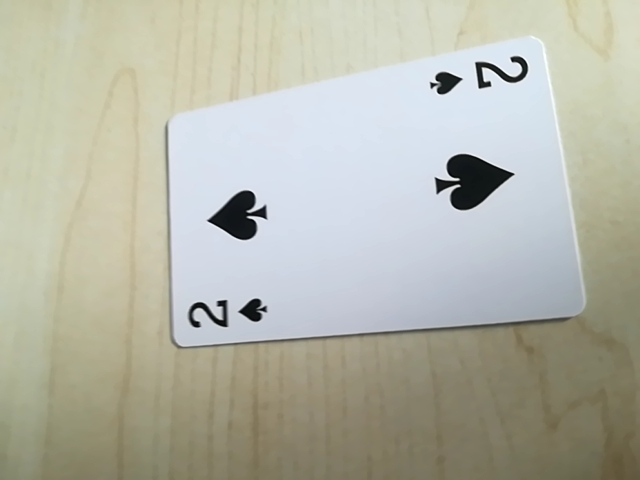ht 2: (422, 51, 539, 106), (178, 289, 275, 341)
